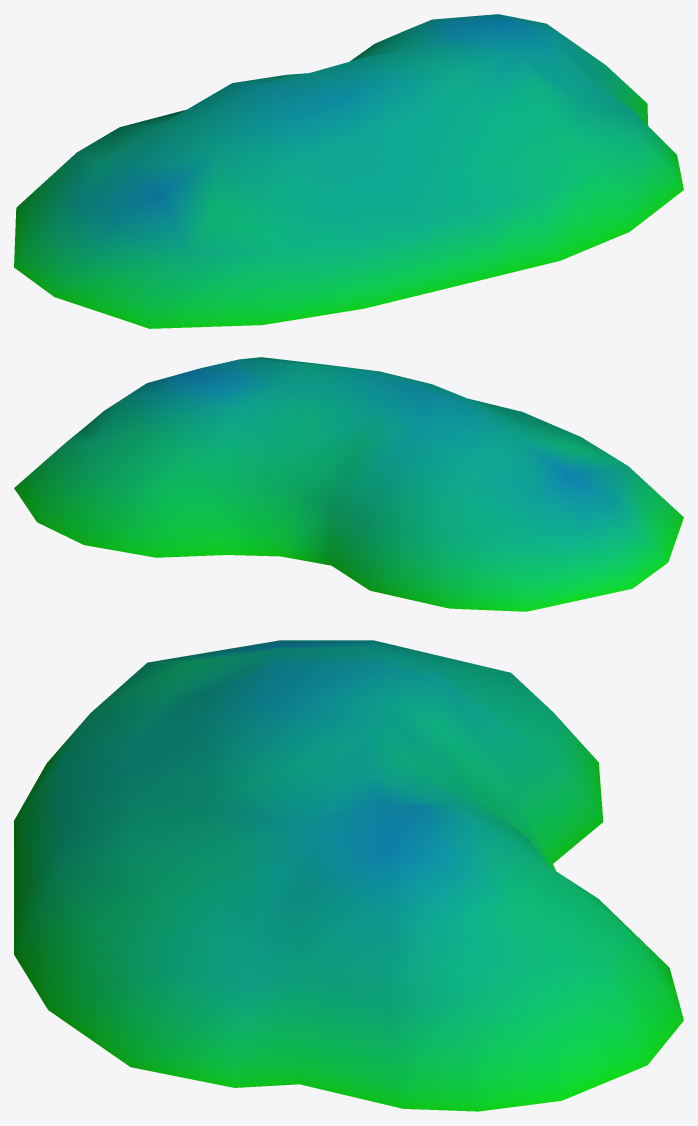
The model's file is FSCPile.fbx.
3 views of the same model, one above another, from view 1: azimuth 30°, elevation 25°; view 2: azimuth 150°, elevation 25°; view 3: azimuth 270°, elevation 25° (orthographic). The views are drawn at different scales.
Visible parts, largest first — view 1: Pile Full; view 2: Pile Full; view 3: Pile Full.
Boxes of the visible parts, x1,y1,x2,y2 form: Pile Full: (14,14,683,328); Pile Full: (14,357,683,611); Pile Full: (14,640,683,1111).
Size of the model in its own units: 4595 by 895 by 2982.
